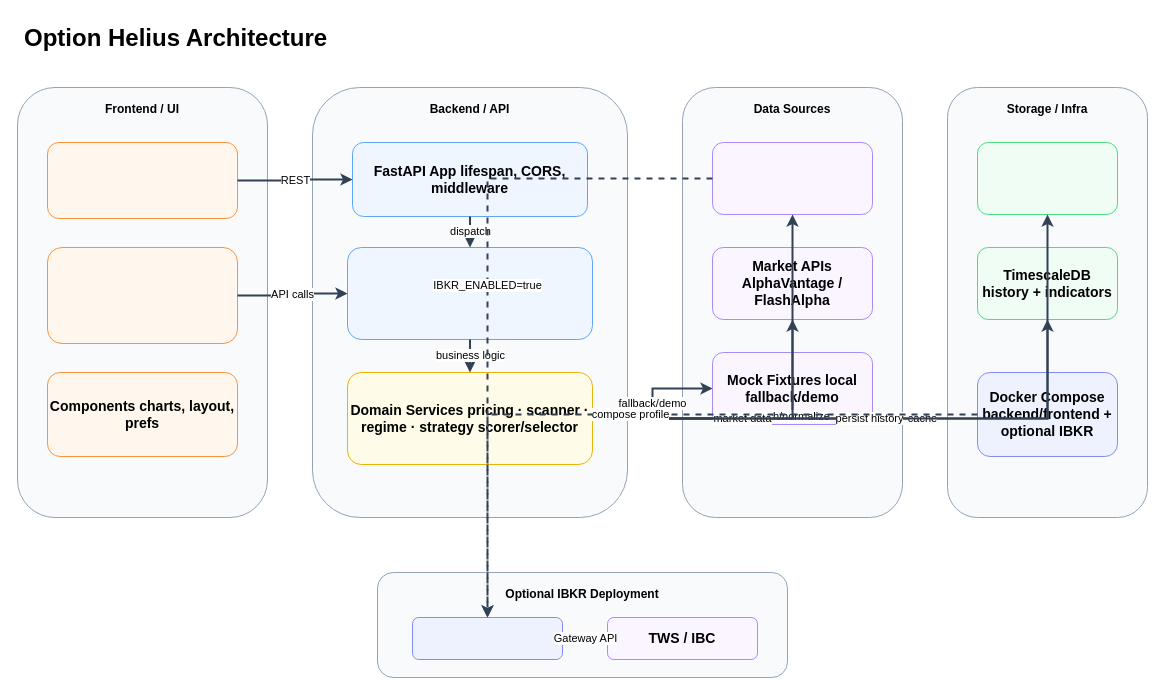
Some shapes in this 1165 by 695 pixel diagram are drawn without their labels. Here are the shapes that lost their labels. From the top down, the centre of each, then its label:
the point at 142,180: Next.js 14 App Tailwind dashboard
the point at 792,178: IBKR Client chains, quotes, greeks
the point at 1047,178: Redis cache + refresh state
the point at 142,295: Pages Chain · Sentiment · Macro · Picks · Report
the point at 469,293: Routers options, macro, sentiment, scanner, picks, report
the point at 487,638: ibgateway
